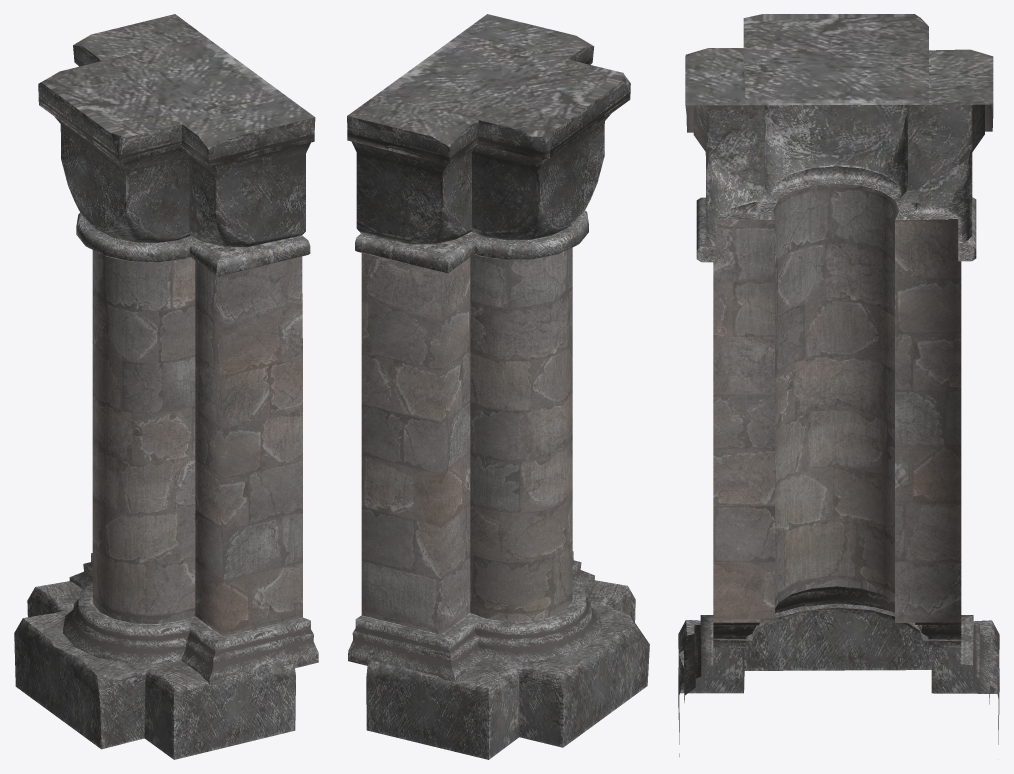
The picture shows the model from 3 angles, left to right: view 1: azimuth 30°, elevation 25°; view 2: azimuth 150°, elevation 25°; view 3: azimuth 270°, elevation 25°; orthographic projection. The views are drawn at different scales.
Visible parts, largest first — view 1: SM_Pillaster02_LOD0; view 2: SM_Pillaster02_LOD0; view 3: SM_Pillaster02_LOD0.
Boxes of the visible parts, bbox=[...] form: SM_Pillaster02_LOD0: bbox=[14, 14, 318, 759]; SM_Pillaster02_LOD0: bbox=[347, 14, 649, 759]; SM_Pillaster02_LOD0: bbox=[678, 14, 999, 756].
Bounding box in the file's own units: 0.9919 × 3 × 1.31.
2 materials, 2 textured.
